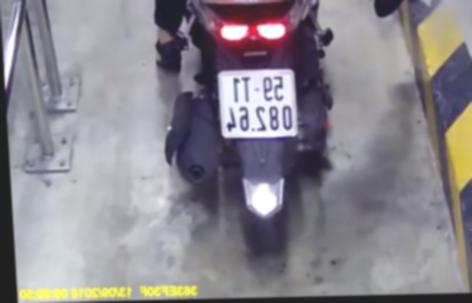License_Plate: (209, 63, 305, 144)
